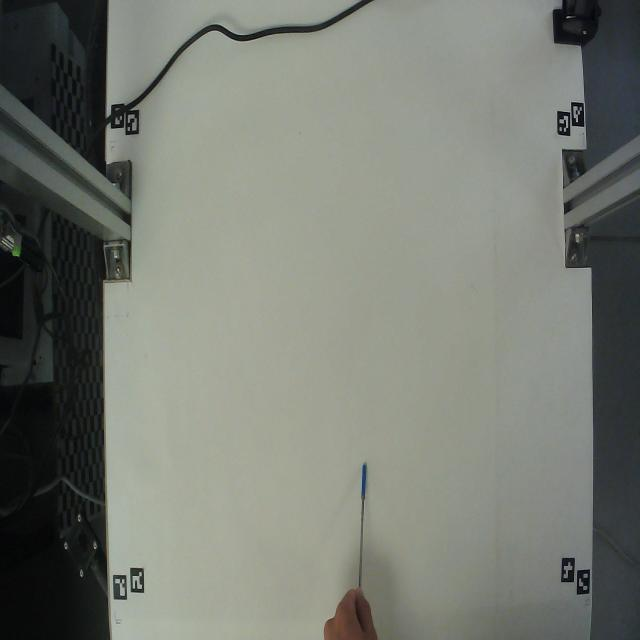Pres: (343, 444, 383, 610)
